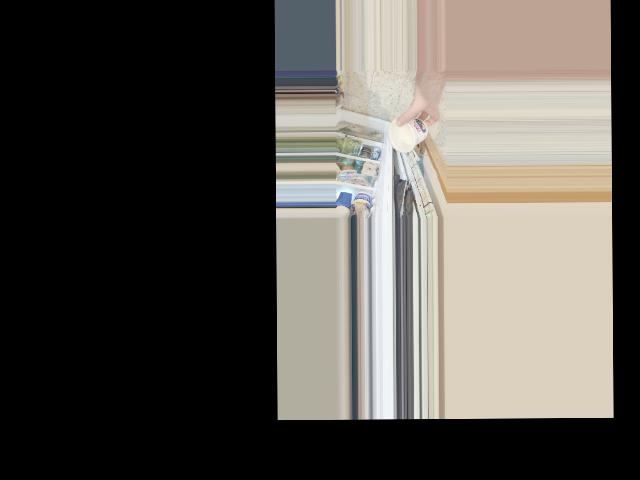cotage: (388, 112, 432, 153)
